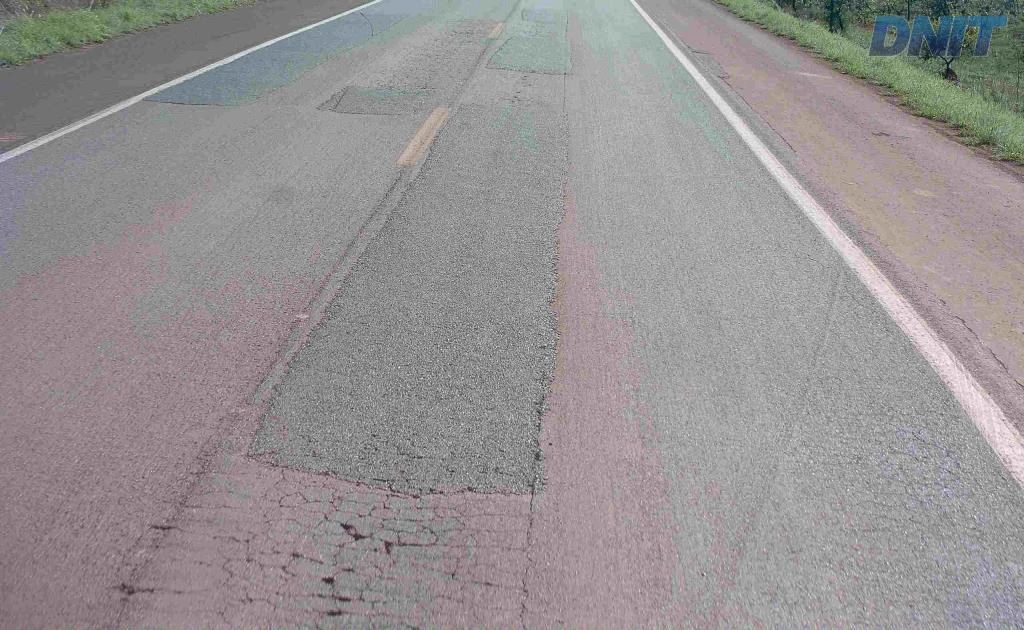crack: (336, 517, 438, 560), (307, 564, 357, 602)
